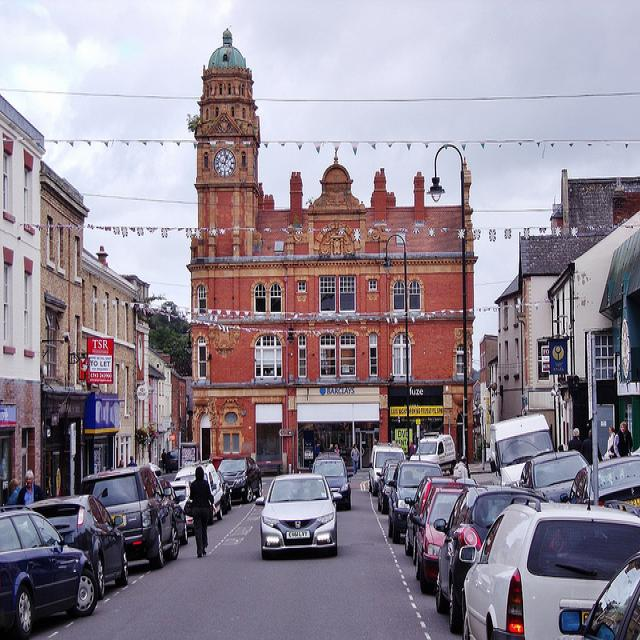Vehicle: (153, 406, 639, 558), (454, 492, 640, 633), (432, 484, 543, 634), (0, 510, 98, 640), (27, 490, 132, 600), (79, 463, 179, 571), (557, 554, 640, 640), (255, 475, 340, 557), (408, 483, 469, 595), (489, 411, 555, 488), (388, 459, 444, 544), (519, 449, 588, 502), (312, 452, 351, 509), (368, 443, 406, 495), (376, 459, 401, 515)
